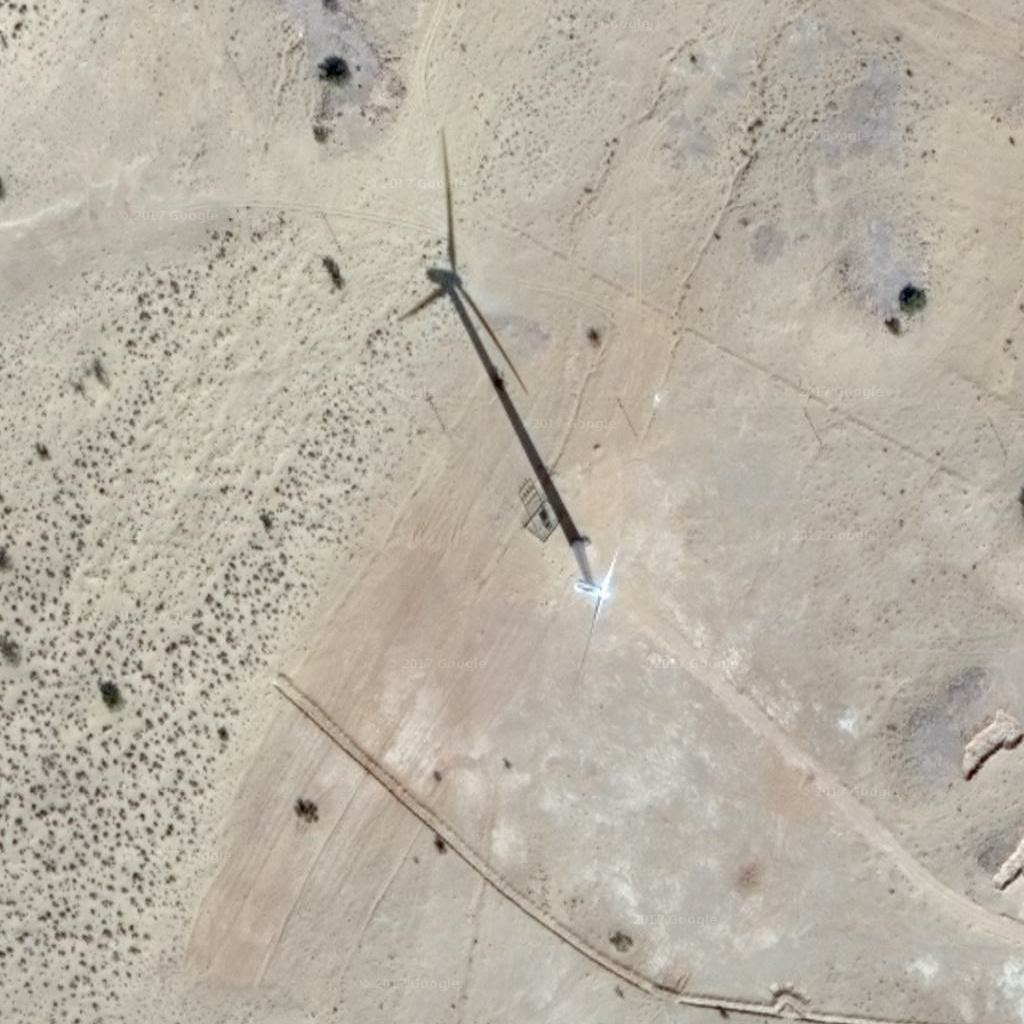Windmill: (388, 128, 585, 539)
